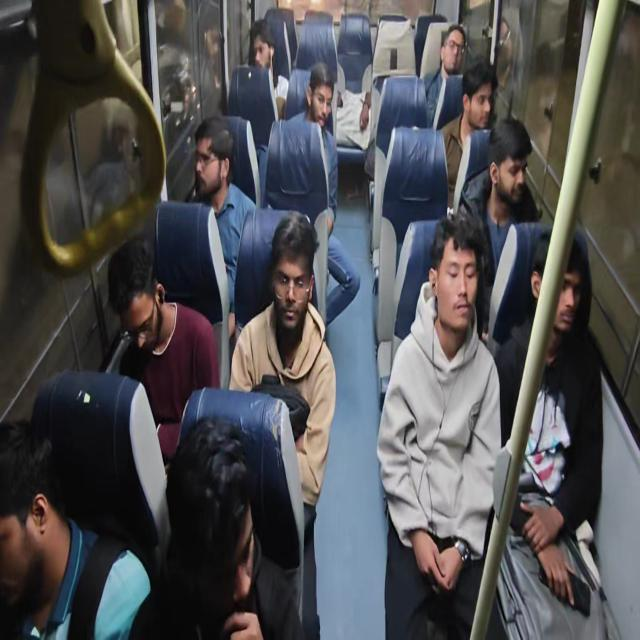person: (152, 375, 276, 640), (90, 224, 212, 431), (534, 208, 638, 444), (420, 232, 505, 434), (0, 442, 77, 639), (172, 106, 266, 226), (260, 206, 319, 355), (239, 13, 296, 90), (331, 57, 376, 151), (304, 70, 354, 154), (501, 125, 543, 222), (464, 68, 509, 149), (443, 16, 472, 71)
